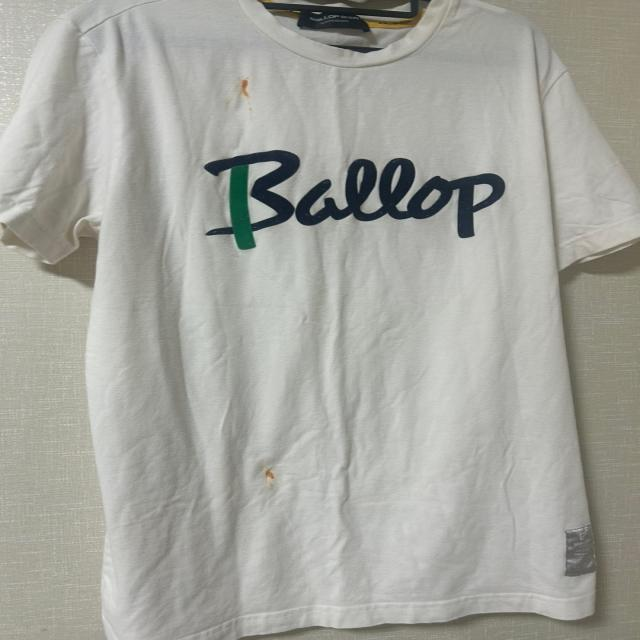stain: (228, 73, 278, 122), (256, 455, 286, 500)
